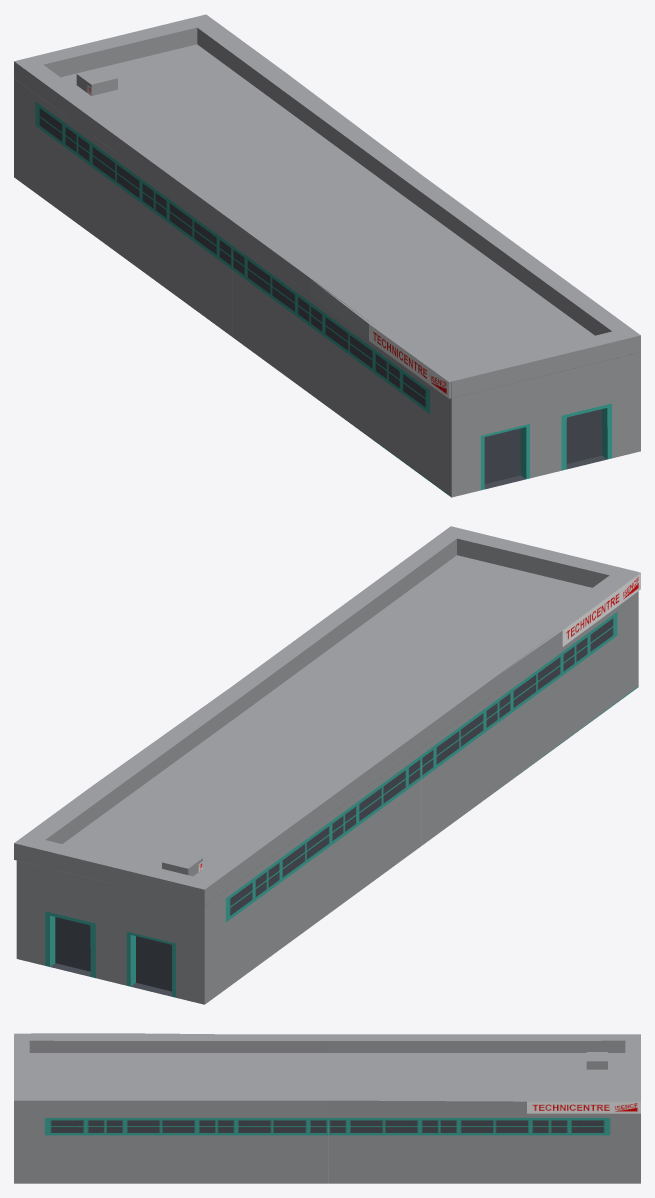
The model's file is technicentre.glb.
3 views of the same model, one above another, from view 1: azimuth 30°, elevation 25°; view 2: azimuth 150°, elevation 25°; view 3: azimuth 270°, elevation 25° (orthographic). The views are drawn at different scales.
Parts seen in each view (by area): view 1: Cube; view 2: Cube; view 3: Cube.
Part boxes in pixels (left/top/right/bottom): Cube: left=14, top=14, right=640, bottom=497; Cube: left=14, top=526, right=640, bottom=1004; Cube: left=14, top=1033, right=640, bottom=1183.
Bounding box in the file's own units: 10.3 × 5.85 × 40.01.
Materials: 1 (1 with a texture image).
